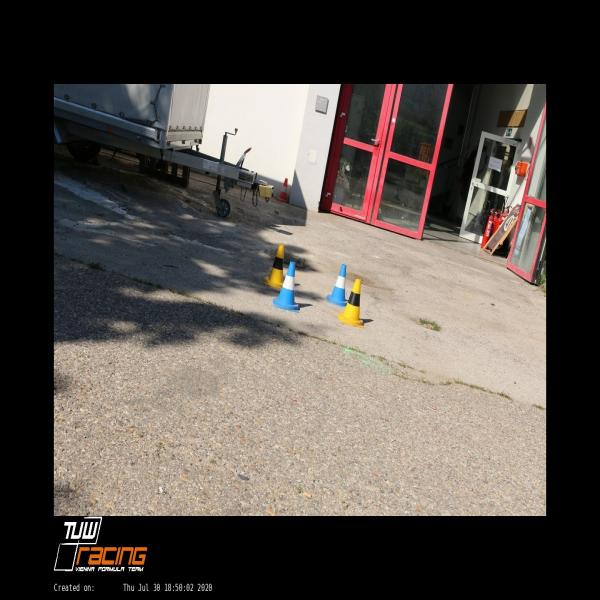blue_cone: (272, 261, 300, 313), (326, 264, 352, 307)
orange_cone: (276, 179, 288, 203)
yellow_cone: (336, 278, 364, 328), (264, 244, 288, 289)
